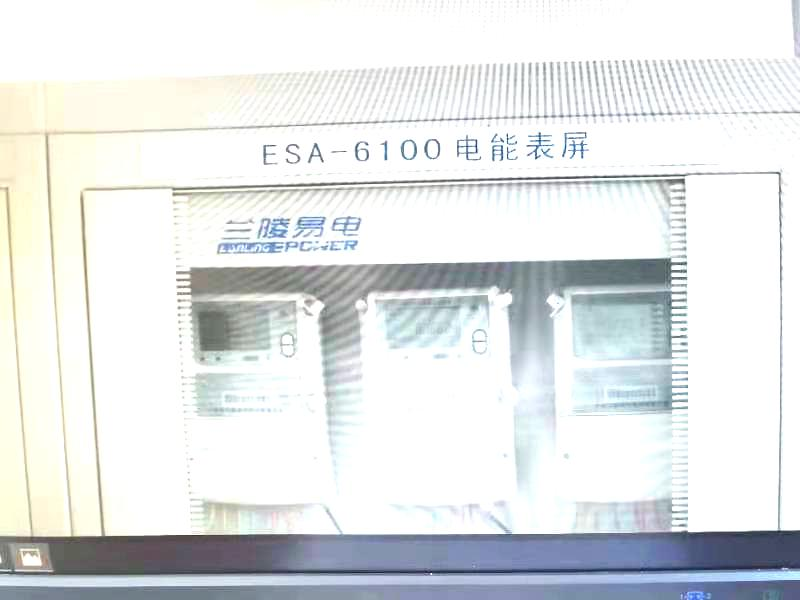digital: (360, 286, 516, 507), (191, 293, 329, 505), (552, 282, 673, 501)
